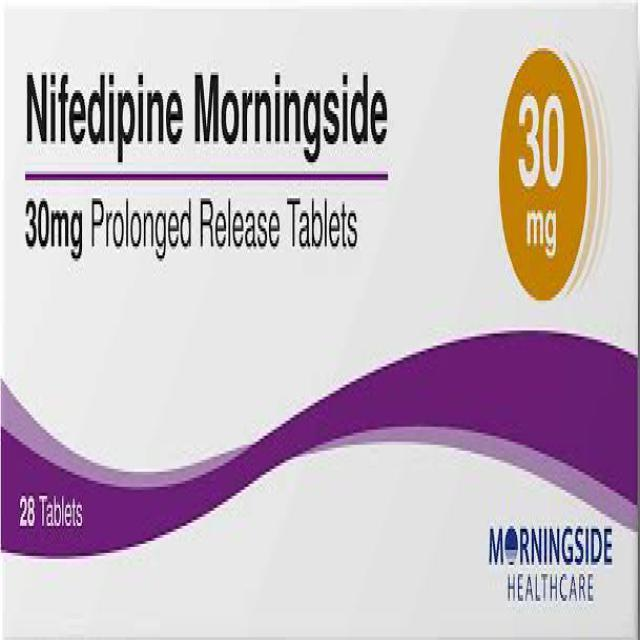drug-name: (21, 64, 389, 168)
